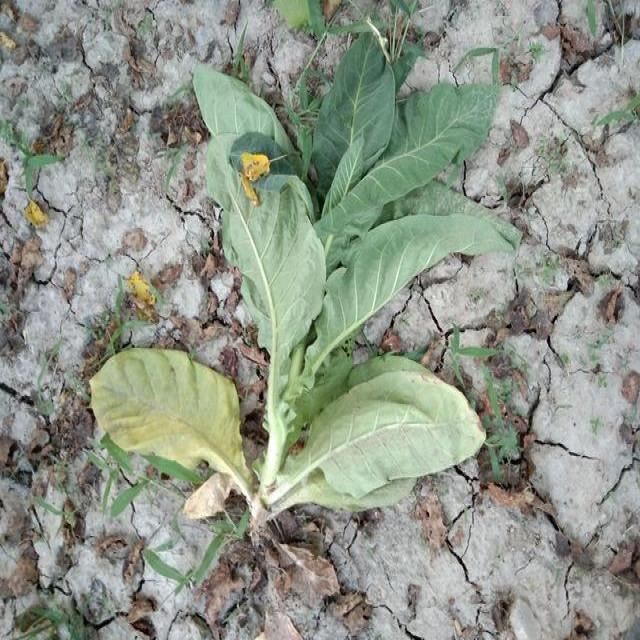crop: (86, 19, 522, 554)
